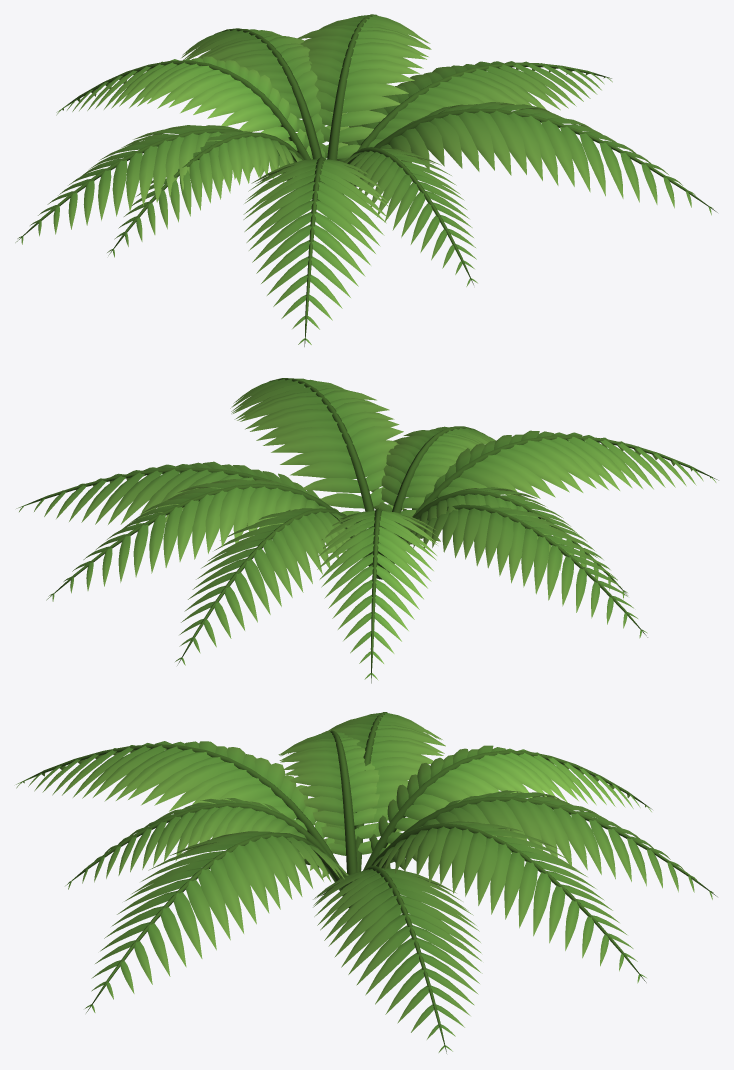
The model's file is Fern_B.fbx.
3 views of the same model, one above another, from view 1: azimuth 30°, elevation 25°; view 2: azimuth 150°, elevation 25°; view 3: azimuth 270°, elevation 25° (orthographic). The views are drawn at different scales.
Parts seen in each view (by area): view 1: Fern_B; view 2: Fern_B; view 3: Fern_B.
Part boxes in pixels (left/top/right/bottom): Fern_B: left=15, top=14, right=717, bottom=346; Fern_B: left=16, top=378, right=718, bottom=683; Fern_B: left=16, top=712, right=717, bottom=1053.
Bounding box in the file's own units: 19.87 × 3.62 × 18.42.
